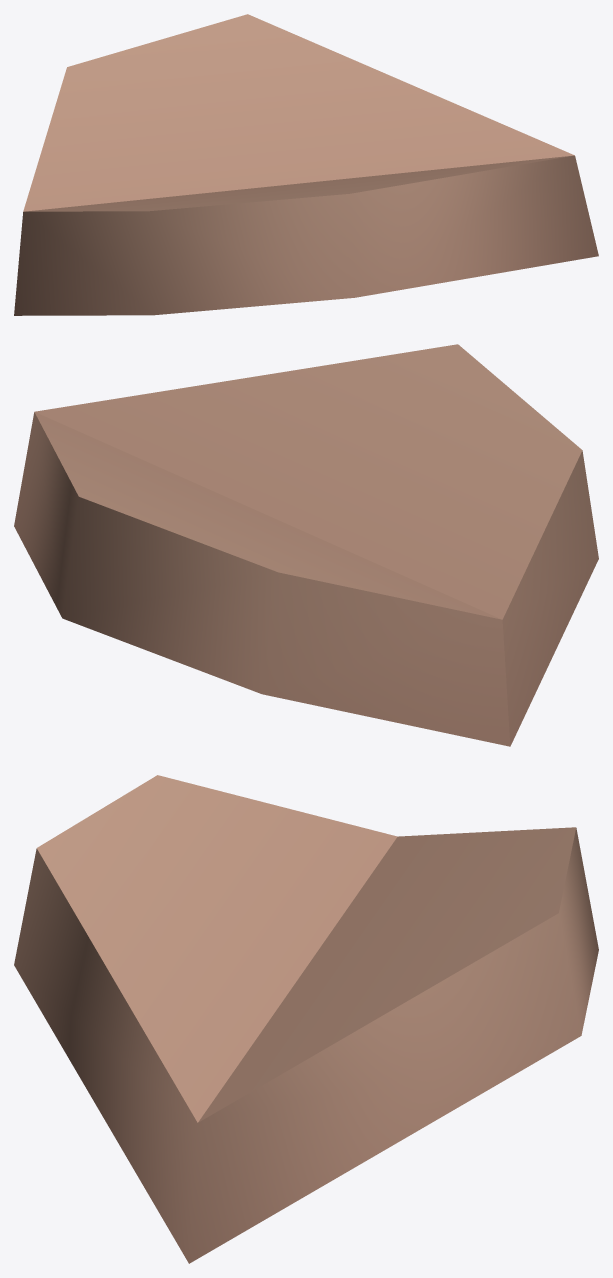
File: (%no-merge) 33.glb
The picture shows the model from 3 angles, top to bottom: view 1: azimuth 30°, elevation 25°; view 2: azimuth 150°, elevation 25°; view 3: azimuth 270°, elevation 25°; orthographic projection. The views are drawn at different scales.
Parts seen in each view (by area): view 1: (%no-merge) 33; view 2: (%no-merge) 33; view 3: (%no-merge) 33.
Part boxes in pixels (left/top/right/bottom): (%no-merge) 33: left=14, top=14, right=598, bottom=315; (%no-merge) 33: left=14, top=344, right=598, bottom=746; (%no-merge) 33: left=14, top=775, right=598, bottom=1263.
Bounding box in the file's own units: 0.1743 × 0.0609 × 0.1419.
